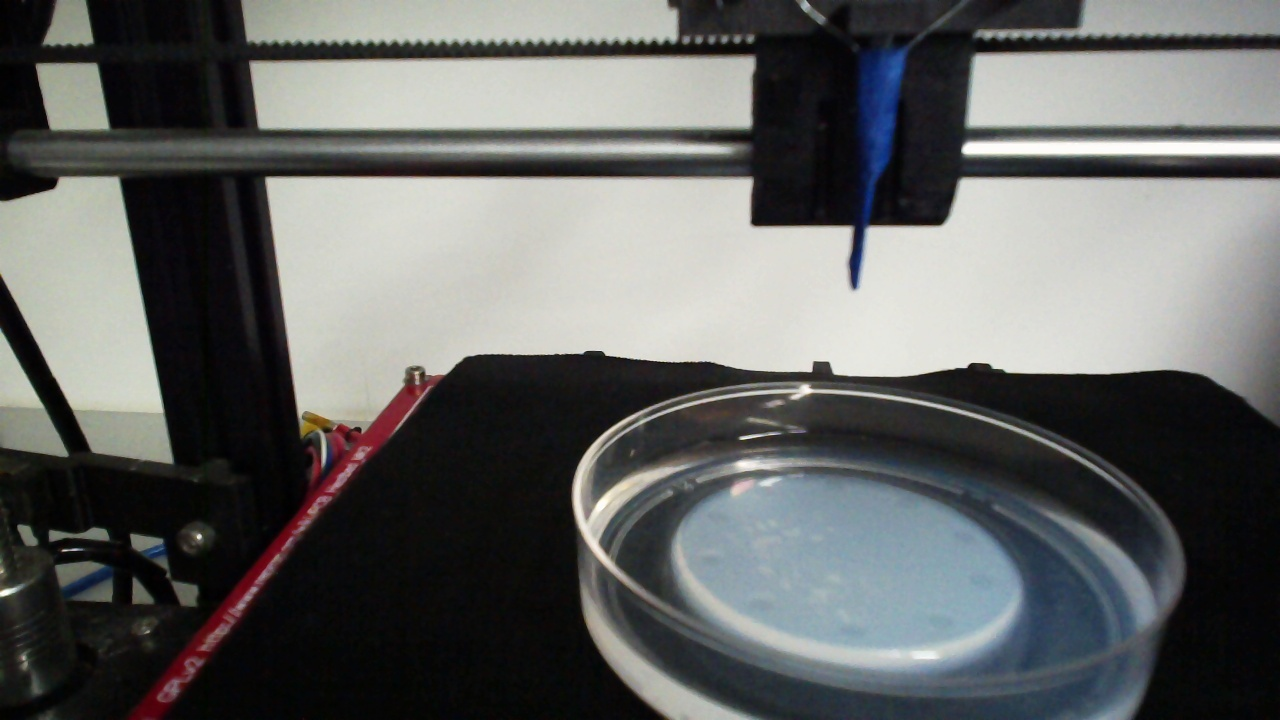groove: (967, 570, 997, 595), (835, 621, 866, 642), (745, 596, 777, 616), (698, 551, 728, 571), (893, 492, 921, 513), (926, 612, 954, 632), (953, 527, 977, 550), (707, 508, 732, 525)
needle: (850, 55, 902, 285)
